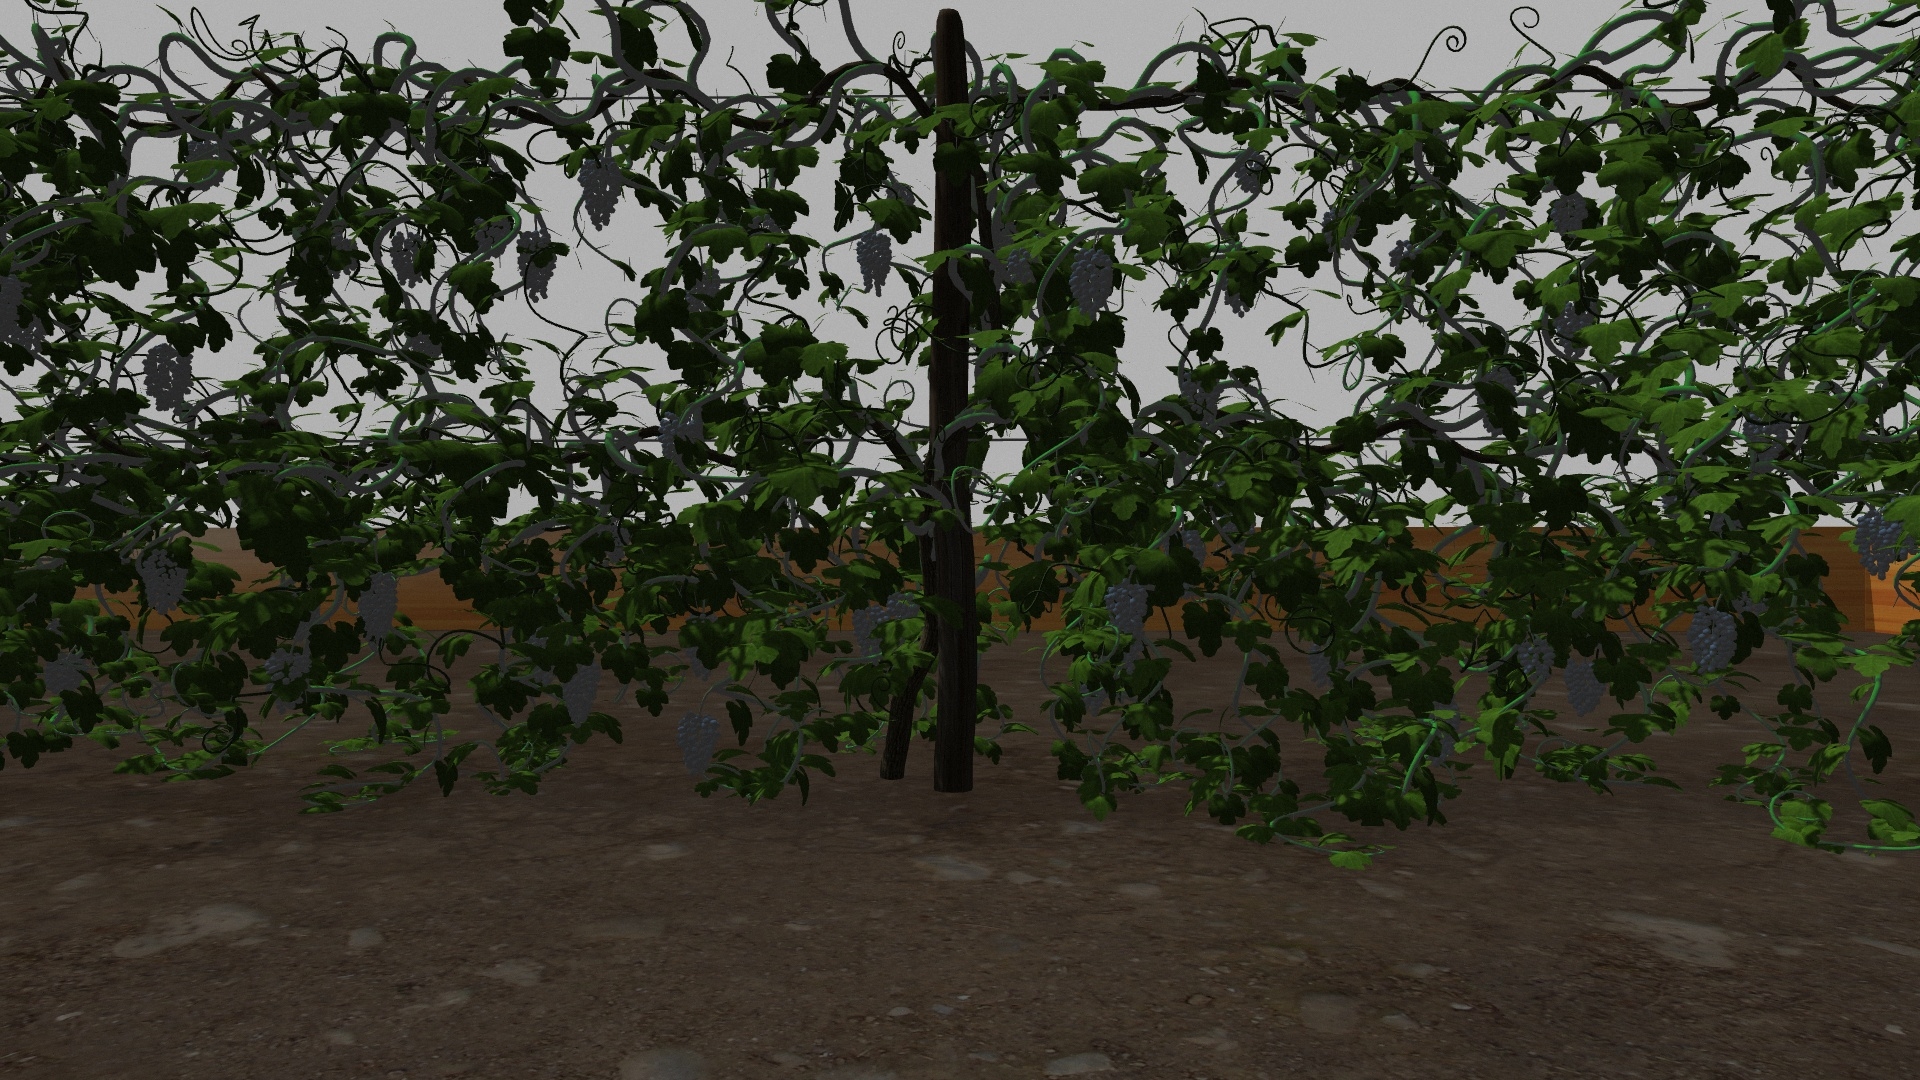grape: (1105, 579, 1150, 670), (138, 345, 195, 413), (1685, 605, 1739, 673), (1851, 512, 1905, 578), (578, 156, 622, 233), (659, 404, 705, 479), (140, 545, 189, 615), (1069, 247, 1116, 319), (516, 228, 559, 305), (357, 568, 401, 645), (4, 278, 46, 352), (560, 661, 603, 731), (266, 650, 310, 715), (679, 709, 720, 778), (856, 229, 894, 299), (40, 644, 92, 694), (1563, 659, 1607, 717), (388, 231, 429, 287), (1743, 411, 1792, 459), (1516, 634, 1555, 686), (1309, 638, 1346, 687), (851, 603, 884, 655), (473, 216, 514, 258), (1551, 190, 1588, 232), (1005, 247, 1039, 286), (881, 589, 916, 626), (1236, 156, 1270, 193)
